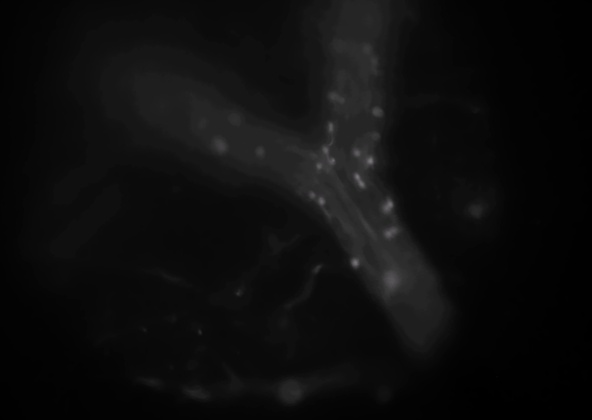cell: (370, 105, 384, 119), (350, 145, 364, 159), (364, 155, 378, 169), (317, 143, 331, 157), (311, 158, 325, 172), (326, 154, 340, 168), (325, 89, 339, 103), (350, 169, 364, 183), (334, 93, 348, 107), (356, 178, 370, 192), (348, 256, 362, 270), (384, 271, 398, 285), (382, 228, 396, 242), (383, 197, 397, 211), (387, 223, 401, 237), (380, 202, 394, 216), (314, 196, 328, 210), (303, 188, 317, 202), (251, 143, 265, 157), (212, 139, 226, 153), (360, 42, 374, 56), (367, 54, 381, 68), (332, 40, 346, 54), (369, 130, 383, 144), (227, 113, 241, 127), (323, 120, 337, 134)
